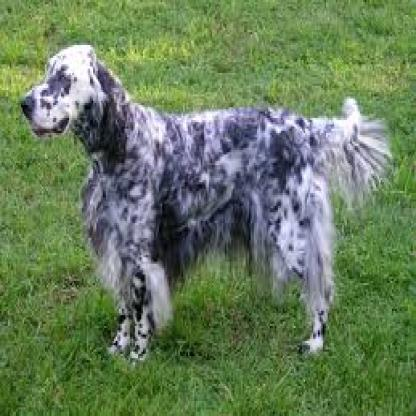English Setter: (16, 27, 398, 416)
